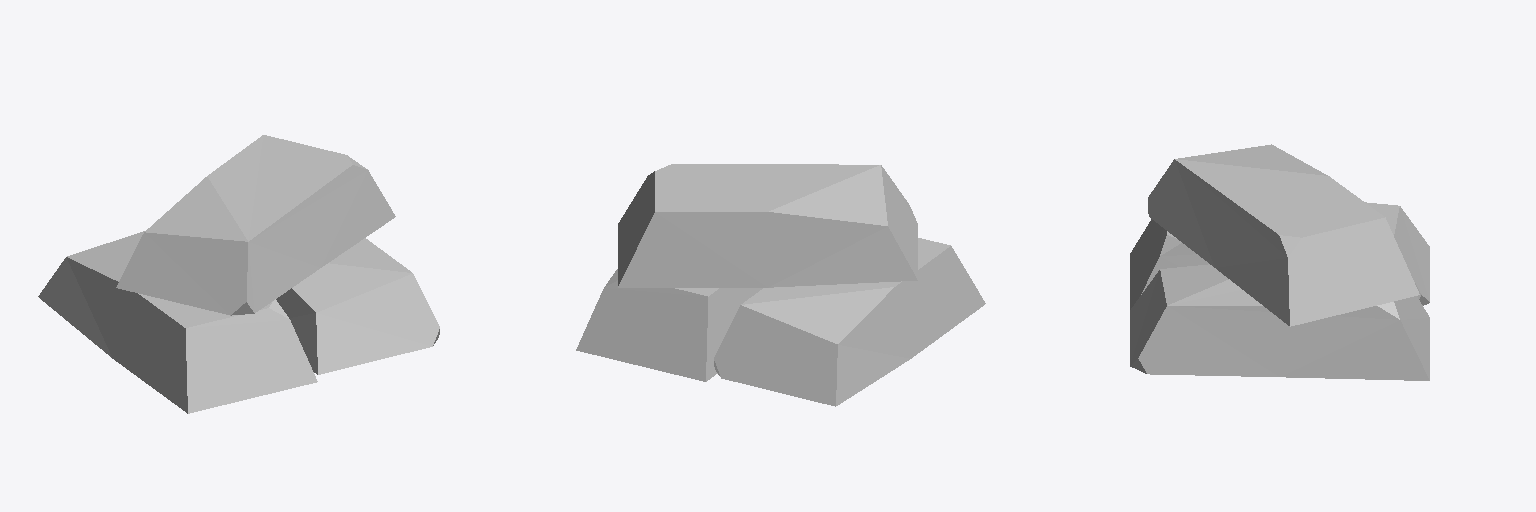
The model's file is Gold-07.obj.
3 views of the same model, side by side, from view 1: azimuth 30°, elevation 25°; view 2: azimuth 150°, elevation 25°; view 3: azimuth 270°, elevation 25° (orthographic).
Visible parts, largest first — view 1: Gold_07; view 2: Gold_07; view 3: Gold_07.
Boxes of the visible parts, <box> form: Gold_07: <box>38,135,439,413</box>; Gold_07: <box>576,164,985,406</box>; Gold_07: <box>1130,144,1429,380</box>.
Bounding box in the file's own units: 0.1674 × 0.075 × 0.15.